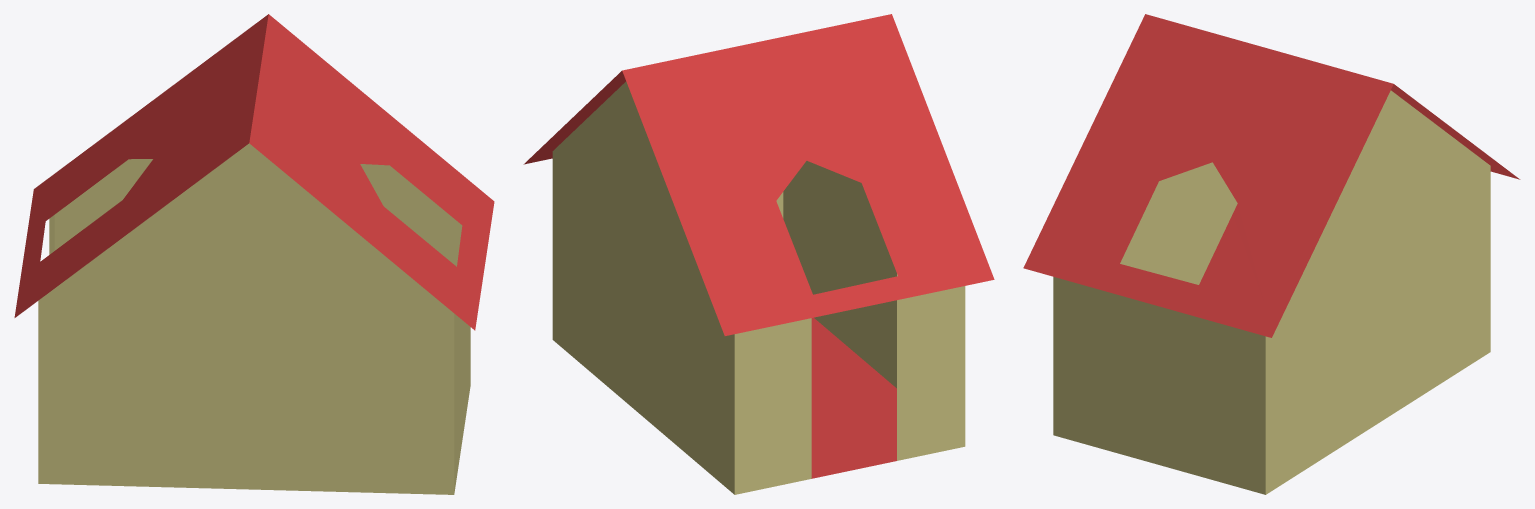
3 renders of one model, left to right at view 1: azimuth 30°, elevation 25°; view 2: azimuth 150°, elevation 25°; view 3: azimuth 270°, elevation 25°, orthographic. The views are drawn at different scales.
Parts seen in each view (by area): view 1: group_5, group_3; view 2: group_5, group_3, group_6, group_4; view 3: group_5, group_3.
Part boxes in pixels (<box>): group_5: <box>38,143,470,494</box>; group_3: <box>14,14,494,330</box>; group_5: <box>552,81,965,494</box>; group_3: <box>523,14,994,335</box>; group_6: <box>811,317,896,478</box>; group_4: <box>630,90,986,334</box>; group_5: <box>1053,90,1490,494</box>; group_3: <box>1023,14,1519,337</box>.
Bounding box in the file's own units: 18.59 × 17.14 × 13.17.
